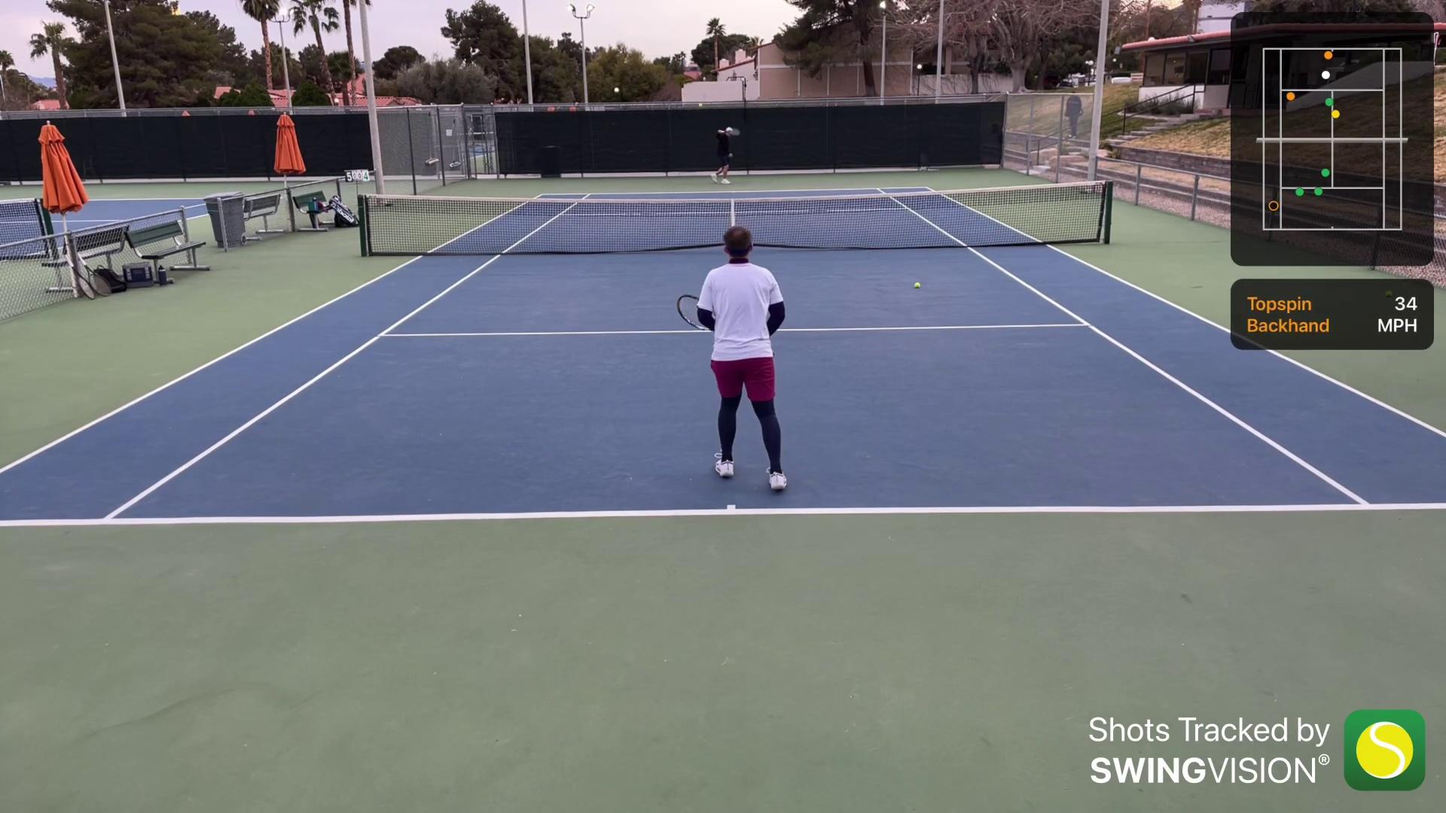ball: (914, 280, 921, 291), (696, 102, 704, 110)
